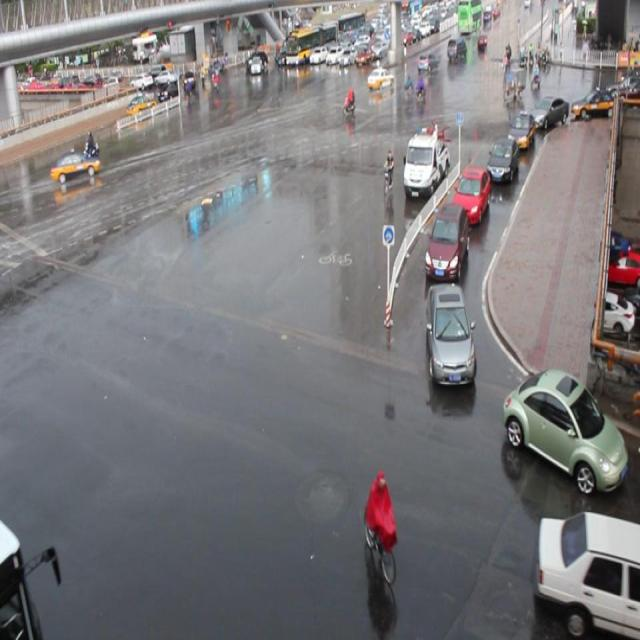bus: (401, 128, 448, 204)
car: (502, 368, 626, 490), (534, 508, 640, 640), (425, 281, 475, 383), (423, 199, 466, 280), (451, 165, 489, 223), (52, 150, 100, 184), (529, 94, 568, 130), (486, 138, 516, 182), (506, 111, 534, 147)
